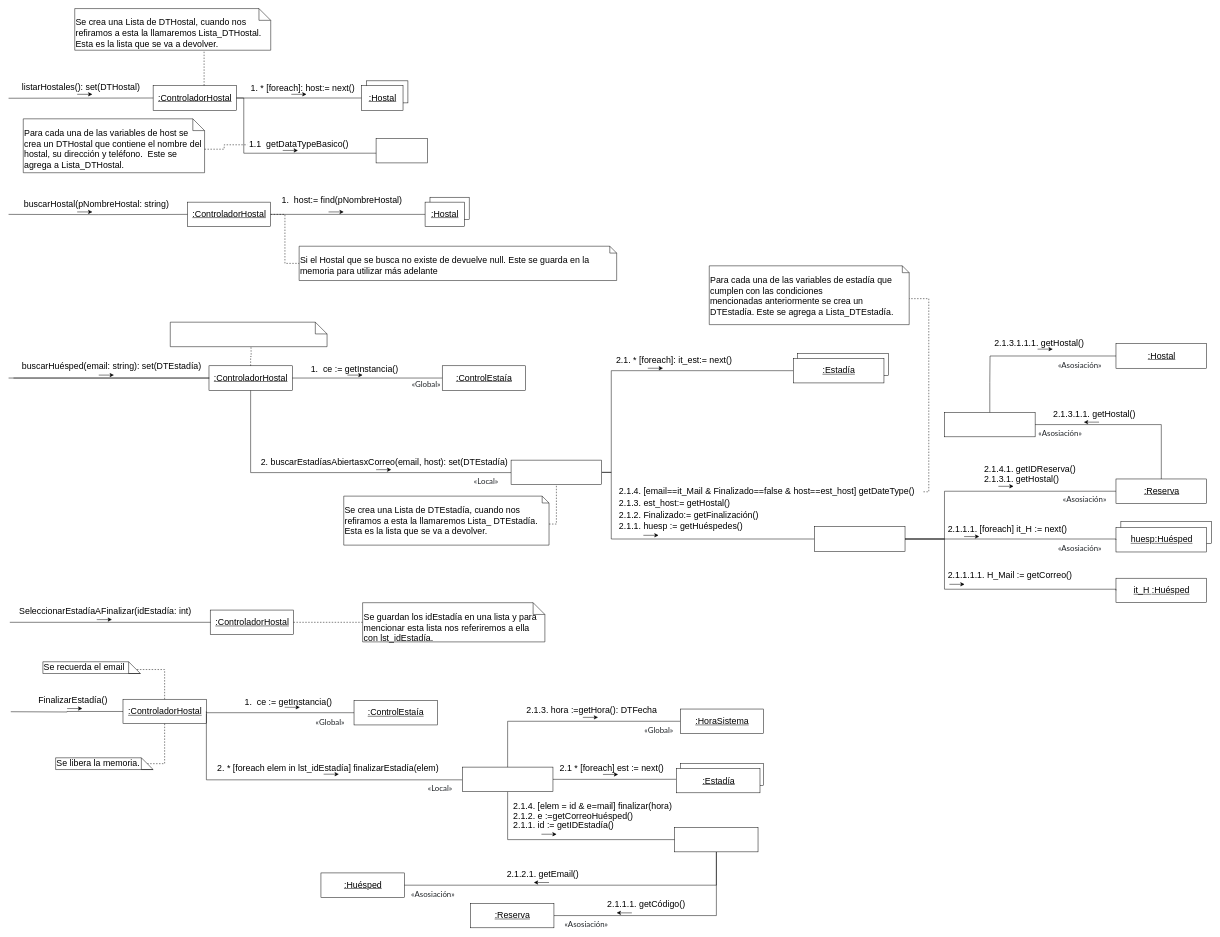
Some shapes in this 1220 by 937 pixel diagram are drawn without their labels. Here are the shapes that lost their labels. From the top down, the centre of each, then its label:
At [402,150]: "host:Hostal".
At [248,334]: "Se recuerda la variable Host y email.".
At [989,424]: ":Habitación".
At [556,472]: "ce:ControladorHostal".
At [859,538]: "it_est :Estadía".
At [507,779]: "ce:ControlEstaía".
At [716,839]: "est:Estadía".
